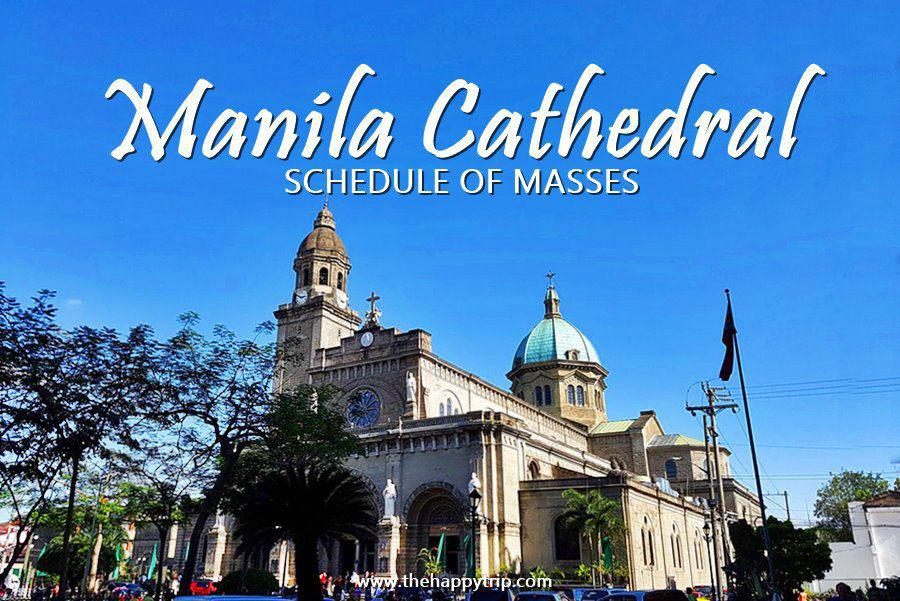manila_cathedral_church_intramuros_manila: (253, 189, 531, 588)
